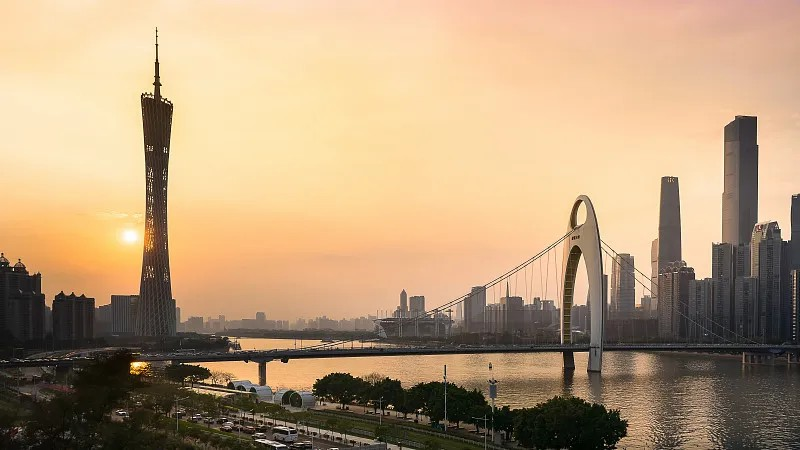Canton: (136, 26, 177, 336)
